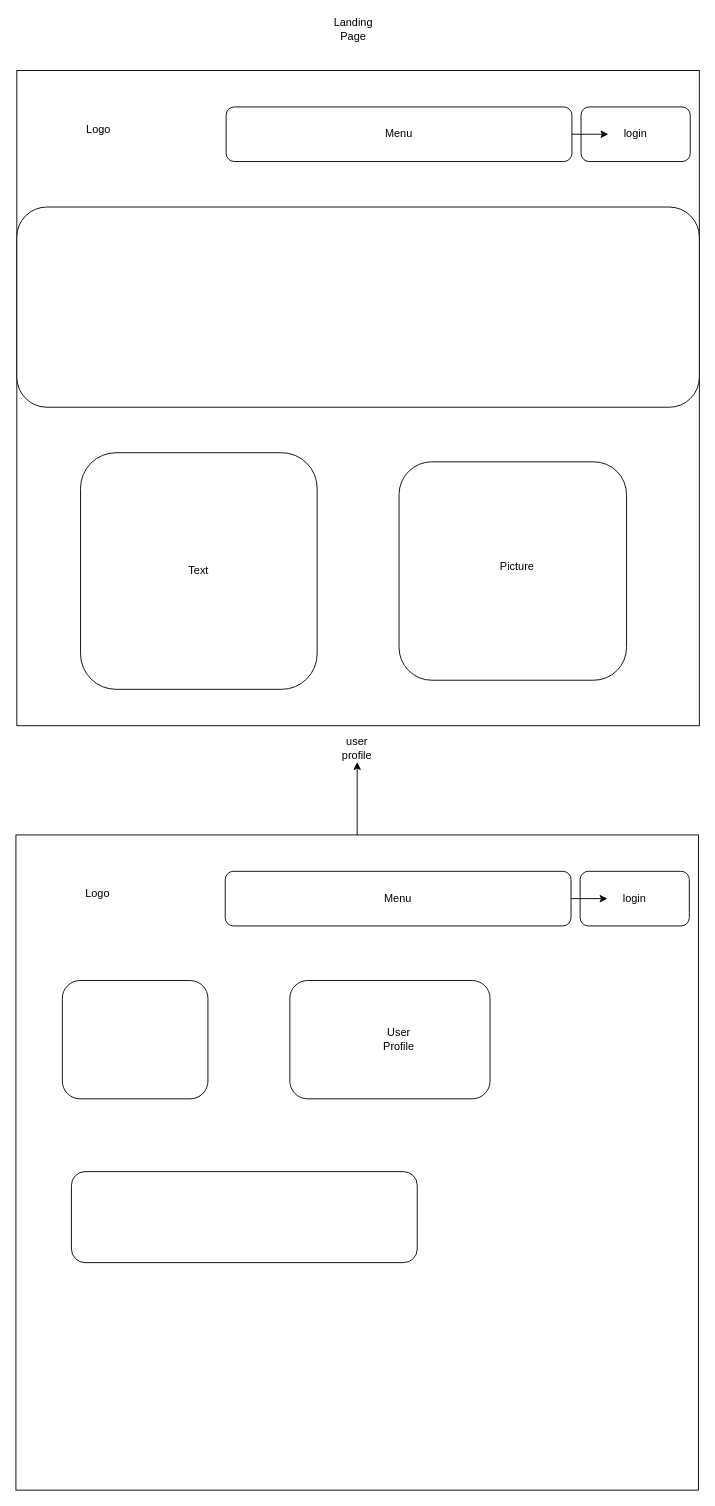
Image size: 715x1506. Some labels were removed from this diagram. Each missing label, with the centre of its shape:
"Gig Search" goes at point (244, 1217).
"Hero/CTA" goes at point (357, 306).
"User Pic" goes at point (134, 1039).
